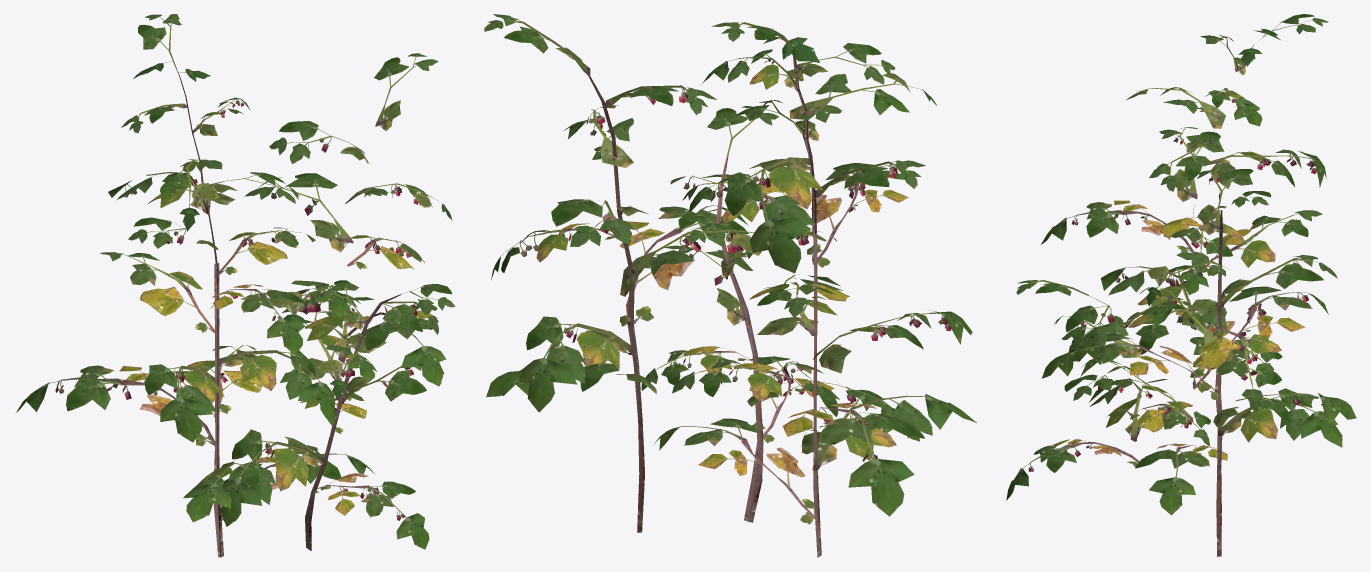
Rendered from SM_pal_b00_flower_Raspberry_PN_WildBerries_08_61293d.glb.
3 renders of one model, left to right at view 1: azimuth 30°, elevation 25°; view 2: azimuth 150°, elevation 25°; view 3: azimuth 270°, elevation 25°, orthographic. The views are drawn at different scales.
Bounding box in the file's own units: 0.7599 × 0.9303 × 0.6211.
Materials: 1 (1 with a texture image).
